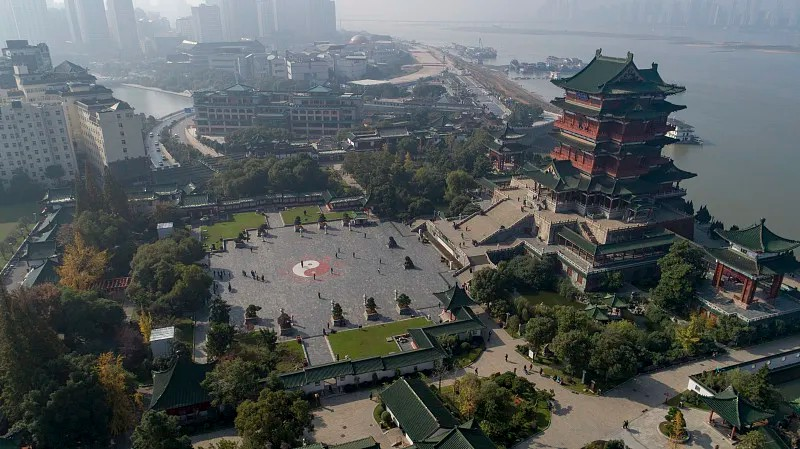Teng: (530, 49, 698, 211)
